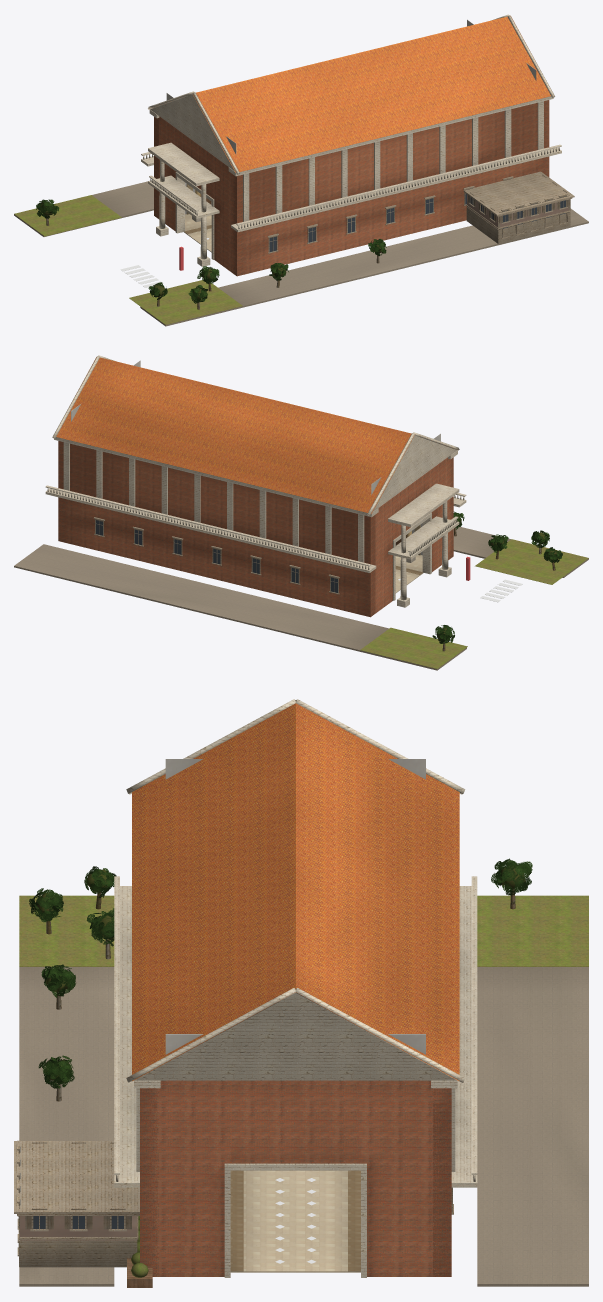
The model's file is aula.gltf.
3 views of the same model, one above another, from view 1: azimuth 30°, elevation 25°; view 2: azimuth 150°, elevation 25°; view 3: azimuth 270°, elevation 25° (orthographic). The views are drawn at different scales.
Parts seen in each view (by area): view 1: aula-roof-tiles, aula-aula-brick, aula-aula-stone, aula-pavement, aula-lawn, aula-travertine-trim, aula-tree-leaves, aula-rustication, aula-window-glass, aula-plaster, aula-shutters, aula-aula-marble; view 2: aula-aula-brick, aula-roof-tiles, aula-aula-stone, aula-pavement, aula-lawn, aula-tree-leaves, aula-travertine-trim, aula-window-glass, aula-aula-marble; view 3: aula-roof-tiles, aula-pavement, aula-aula-brick, aula-aula-stone, aula-lawn, aula-aula-marble, aula-travertine-trim, aula-tree-leaves, aula-rustication, aula-aula-band, aula-aula-plaster, aula-plaster (+1 smaller).
Part boxes in pixels (<box>): aula-roof-tiles: <box>193,16,550,172</box>; aula-aula-brick: <box>154,100,549,276</box>; aula-aula-stone: <box>141,14,561,266</box>; aula-pavement: <box>14,181,588,326</box>; aula-lawn: <box>14,195,242,324</box>; aula-travertine-trim: <box>267,171,574,253</box>; aula-tree-leaves: <box>36,199,386,303</box>; aula-rustication: <box>466,207,570,243</box>; aula-window-glass: <box>269,193,565,251</box>; aula-plaster: <box>467,194,568,229</box>; aula-shutters: <box>468,195,569,233</box>; aula-aula-marble: <box>184,214,211,252</box>; aula-aula-brick: <box>58,441,453,617</box>; aula-roof-tiles: <box>56,357,415,513</box>; aula-aula-stone: <box>45,355,466,607</box>; aula-pavement: <box>14,526,588,670</box>; aula-lawn: <box>360,539,588,668</box>; aula-tree-leaves: <box>432,511,562,643</box>; aula-travertine-trim: <box>93,517,339,594</box>; aula-window-glass: <box>96,520,337,592</box>; aula-aula-marble: <box>395,555,423,592</box>; aula-roof-tiles: <box>132,703,459,1081</box>; aula-pavement: <box>19,967,588,1286</box>; aula-aula-brick: <box>140,1080,451,1276</box>; aula-aula-stone: <box>114,699,477,1277</box>; aula-lawn: <box>19,895,588,966</box>; aula-aula-marble: <box>230,1170,360,1272</box>; aula-travertine-trim: <box>14,1140,453,1256</box>; aula-tree-leaves: <box>29,858,532,1088</box>; aula-rustication: <box>19,1240,137,1267</box>; aula-aula-band: <box>230,1170,360,1271</box>; aula-aula-plaster: <box>165,759,425,1054</box>; aula-plaster: <box>20,1216,137,1240</box>.
Size of the model in its own units: 93.9 by 32.78 by 58.25.
Materials: 36 (23 with a texture image).
